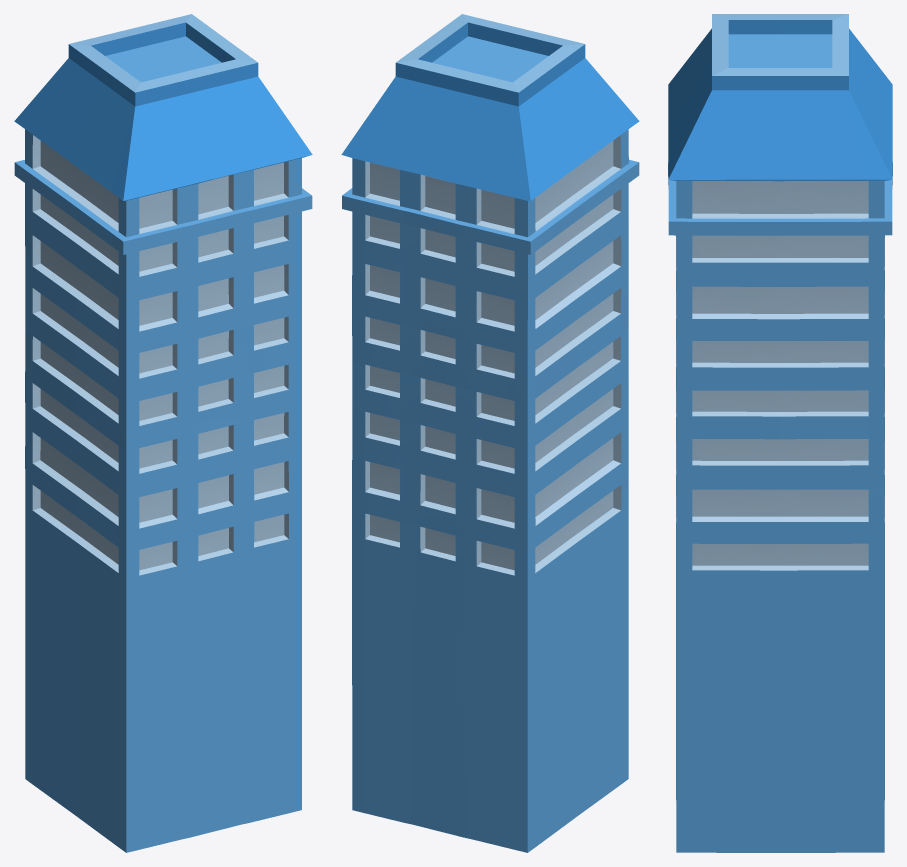
File: house_3wind.fbx
3 renders of one model, left to right at view 1: azimuth 30°, elevation 25°; view 2: azimuth 150°, elevation 25°; view 3: azimuth 270°, elevation 25°, orthographic. The views are drawn at different scales.
Visible parts, largest first — view 1: house_3wind; view 2: house_3wind; view 3: house_3wind.
Part boxes in pixels (x1,y1,x2,y2): house_3wind: (14, 14, 312, 852); house_3wind: (341, 14, 639, 852); house_3wind: (668, 14, 892, 852).
Bounding box in the file's own units: 66.27 × 248 × 65.96.
